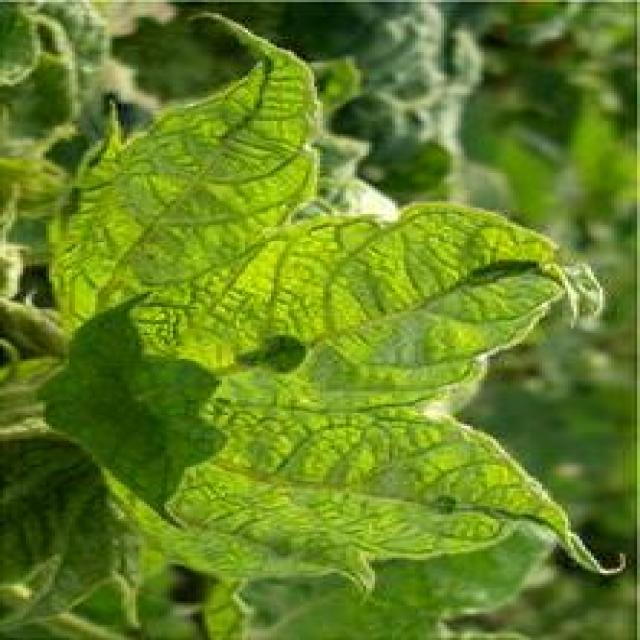Leaf Curl Virus: (69, 165, 450, 544)
